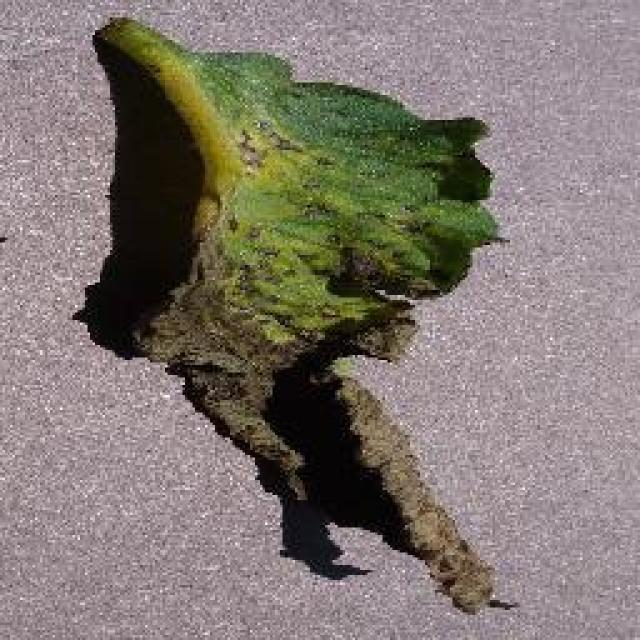Tomato___Septoria_leaf_spot: (105, 20, 498, 608)
